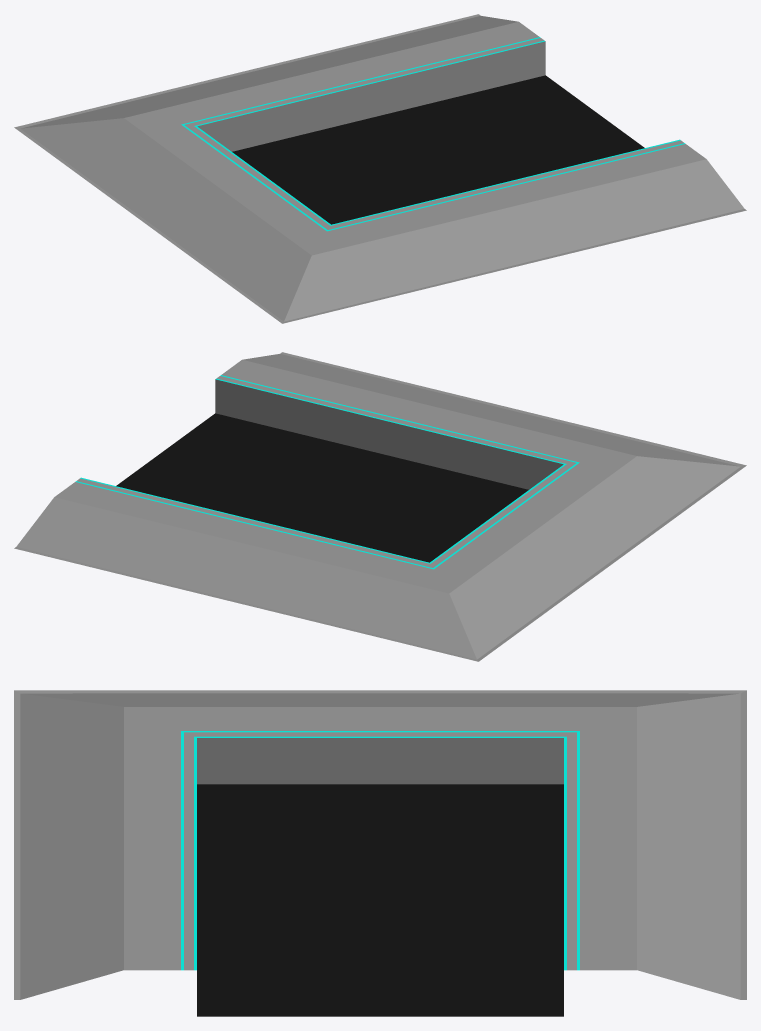
The model's file is pressure_plate_base_heavy_end_01.FBX.
3 views of the same model, one above another, from view 1: azimuth 30°, elevation 25°; view 2: azimuth 150°, elevation 25°; view 3: azimuth 270°, elevation 25° (orthographic). The views are drawn at different scales.
Parts seen in each view (by area): view 1: pressure_plate_base_heavy_end_01; view 2: pressure_plate_base_heavy_end_01; view 3: pressure_plate_base_heavy_end_01.
Part boxes in pixels (x1,y1,x2,y2): pressure_plate_base_heavy_end_01: (14,14,746,323); pressure_plate_base_heavy_end_01: (14,352,746,661); pressure_plate_base_heavy_end_01: (14,690,746,1016).
Size of the model in its own units: 400 by 27.96 by 400.
